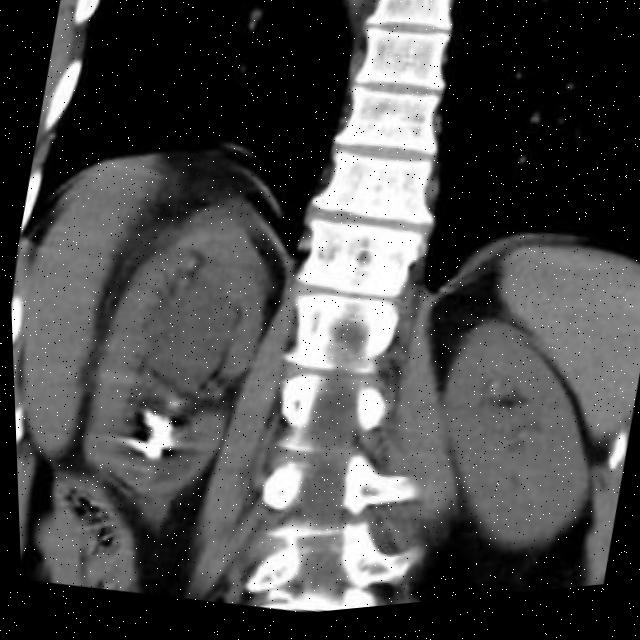Tas_Var: (106, 431, 160, 474), (138, 410, 173, 443), (140, 434, 166, 453), (160, 398, 179, 413), (137, 409, 149, 424)
